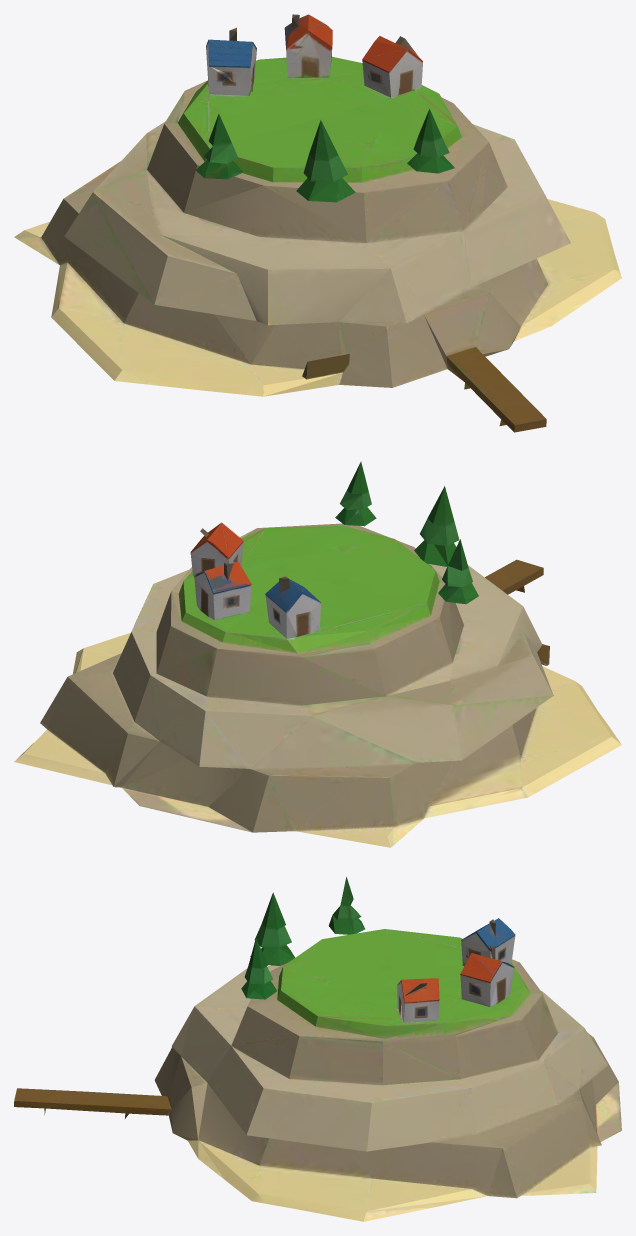
File: meshy.glb
The picture shows the model from 3 angles, top to bottom: view 1: azimuth 30°, elevation 25°; view 2: azimuth 150°, elevation 25°; view 3: azimuth 270°, elevation 25°; orthographic projection. The views are drawn at different scales.
Bounding box in the file's own units: 1.65 × 0.6559 × 1.9.
Materials: 1 (1 with a texture image).
